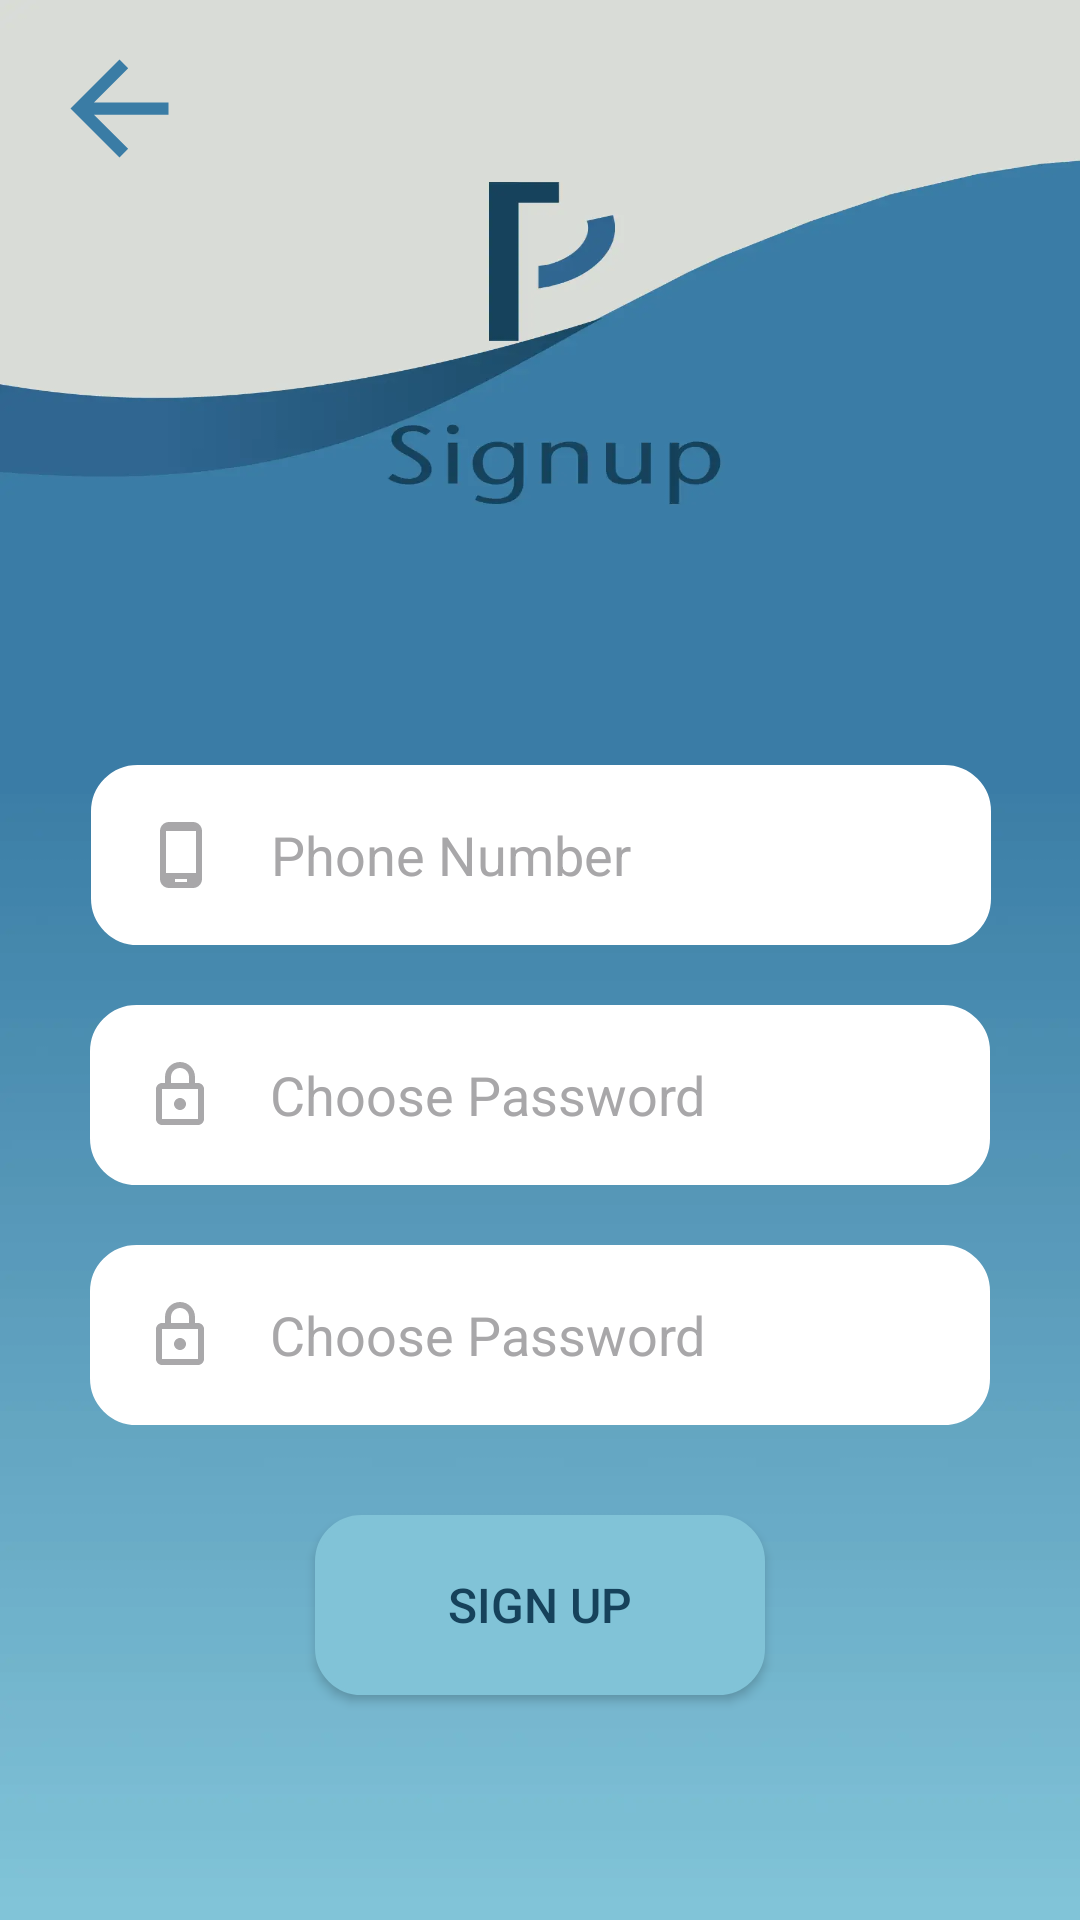

Named icons in this screenshot (1080 × 1920) and their bounding boxes, (x1, y1, x2, y2):
arrow back: (70, 59, 169, 158)
